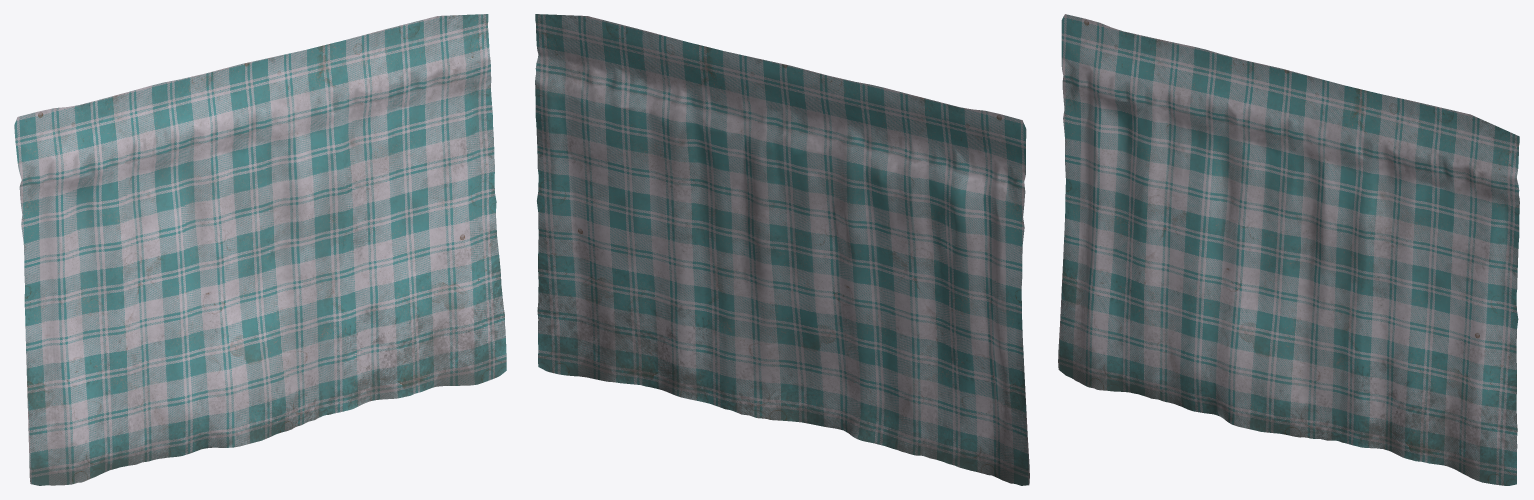
File: SM_Curtain_A.fbx
The picture shows the model from 3 angles, left to right: view 1: azimuth 30°, elevation 25°; view 2: azimuth 150°, elevation 25°; view 3: azimuth 330°, elevation 25°; orthographic projection. The views are drawn at different scales.
Parts seen in each view (by area): view 1: SM_Curtain_A_LOD0; view 2: SM_Curtain_A_LOD0; view 3: SM_Curtain_A_LOD0.
Part boxes in pixels (box(x1,y1,x2,y2)): SM_Curtain_A_LOD0: box(14, 14, 506, 485); SM_Curtain_A_LOD0: box(535, 14, 1029, 485); SM_Curtain_A_LOD0: box(1058, 14, 1519, 485).
Bounding box in the file's own units: 96.18 × 7.42 × 70.02.
Materials: 1 (1 with a texture image).
